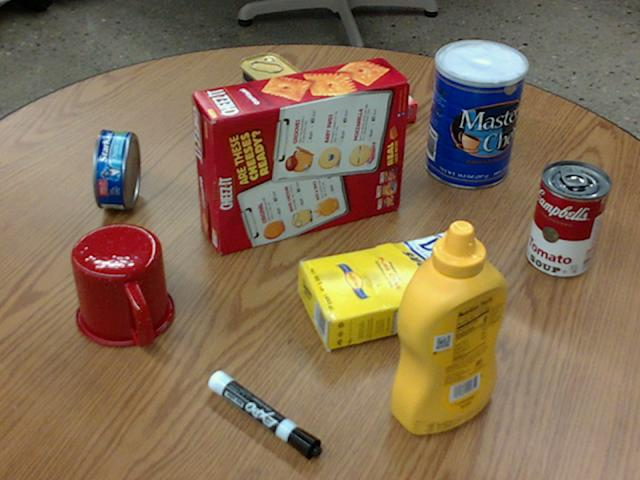cracker_box: (192, 56, 407, 254)
gelatin_box: (340, 74, 417, 127)
large_marker: (207, 371, 320, 458)
master_chef_can: (424, 40, 526, 187)
mug: (72, 224, 175, 346)
mustard_bottle: (391, 221, 506, 434)
potted_meat_can: (240, 52, 311, 148)
sugar_box: (297, 231, 499, 348)
tomato_soup_can: (528, 160, 610, 277)
tuna_fish_can: (94, 130, 139, 209)
